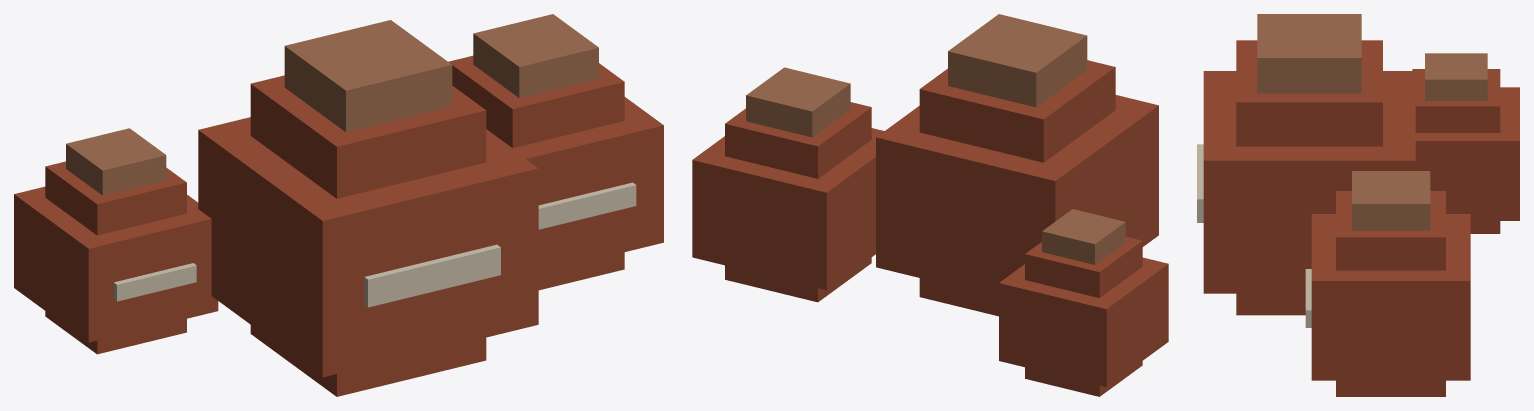
The model's file is dd_pots.glb.
The picture shows the model from 3 angles, left to right: view 1: azimuth 30°, elevation 25°; view 2: azimuth 150°, elevation 25°; view 3: azimuth 270°, elevation 25°; orthographic projection. The views are drawn at different scales.
Visible parts, largest first — view 1: DUBG_dd_pots; view 2: DUBG_dd_pots; view 3: DUBG_dd_pots.
Boxes of the visible parts, x1,y1,x2,y2 form: DUBG_dd_pots: [14, 14, 663, 396]; DUBG_dd_pots: [692, 14, 1168, 396]; DUBG_dd_pots: [1197, 14, 1519, 396].
Size of the model in its own units: 3.7 by 1.96 by 2.31.
